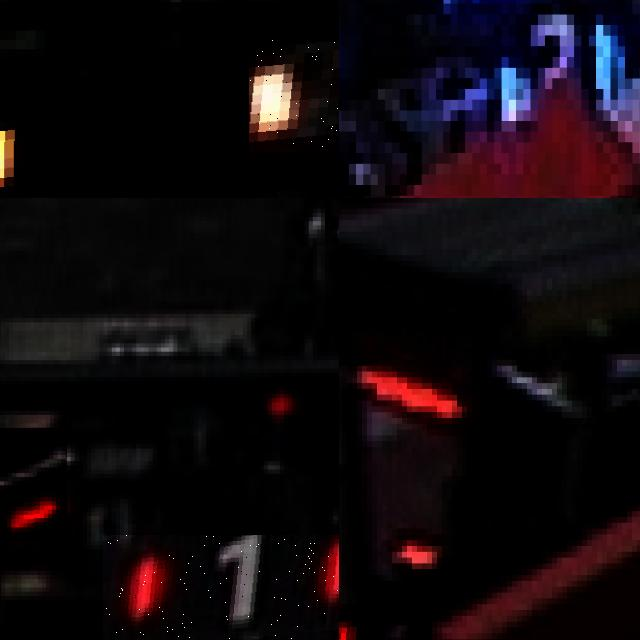R1: (103, 535, 339, 640), (0, 427, 66, 541), (339, 610, 432, 640)
Rs: (248, 40, 339, 153), (0, 77, 64, 198)
